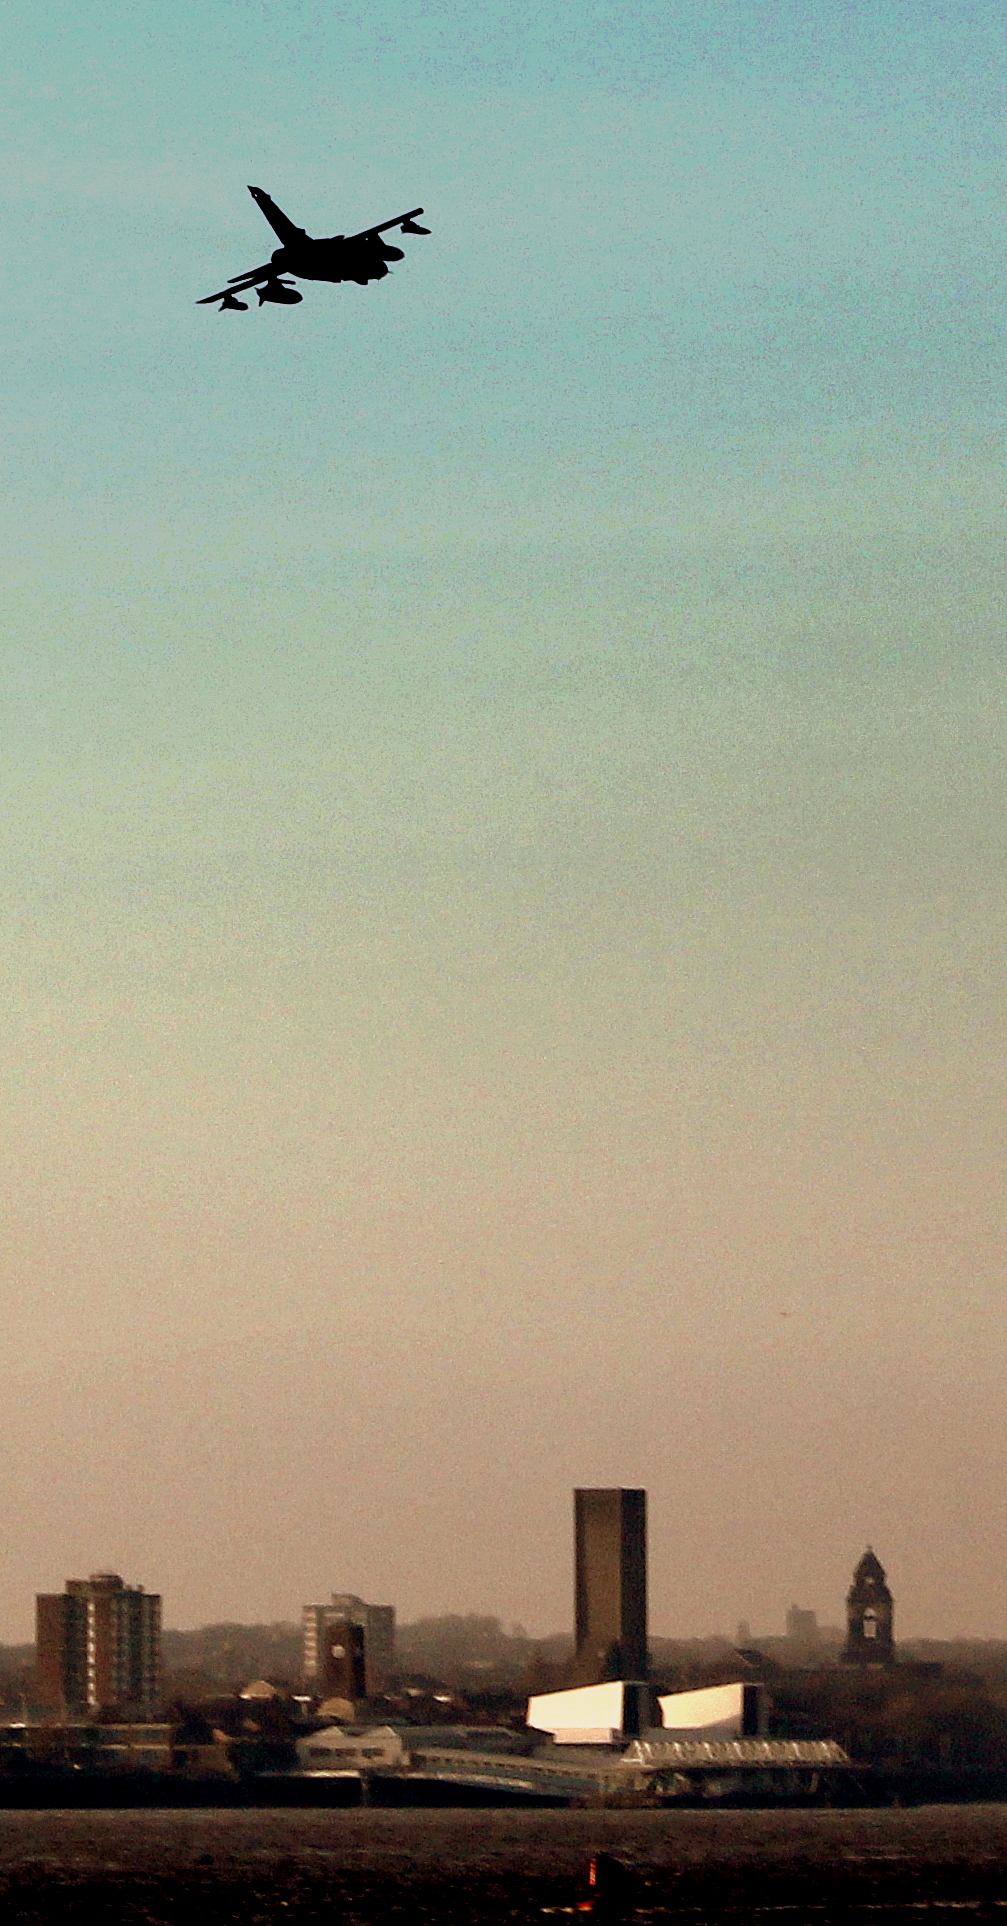Tornado: (194, 183, 433, 312)
